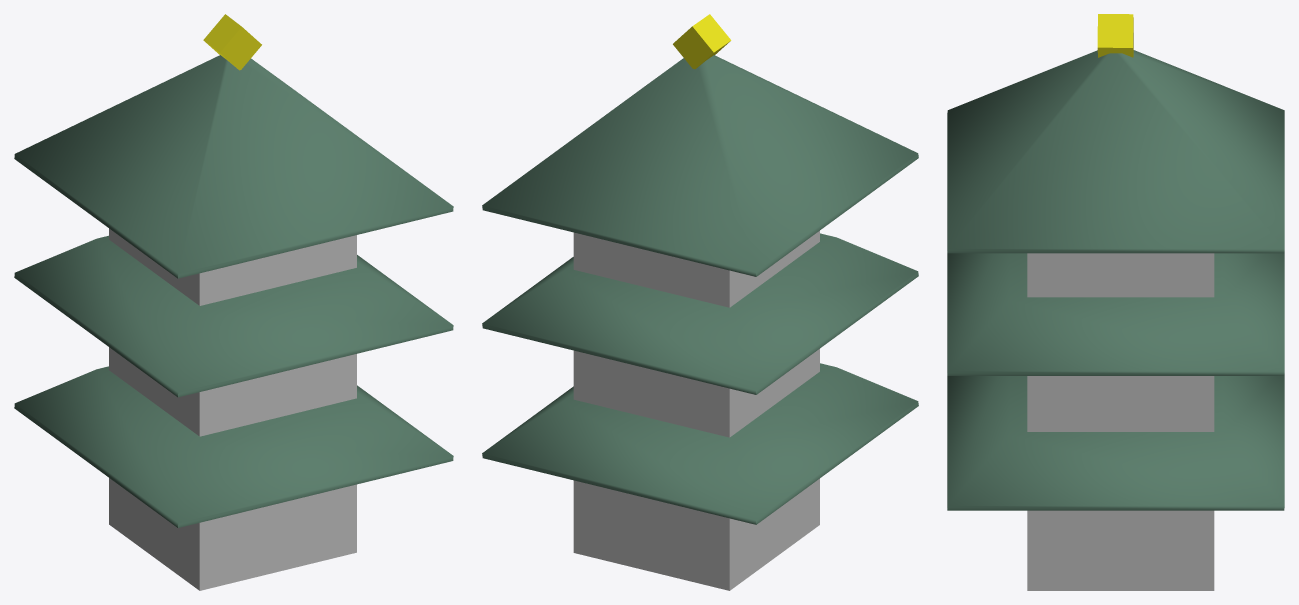
File: placeholder.fbx
3 renders of one model, left to right at view 1: azimuth 30°, elevation 25°; view 2: azimuth 150°, elevation 25°; view 3: azimuth 270°, elevation 25°, orthographic. The views are drawn at different scales.
Parts seen in each view (by area): view 1: Cube.3, Cube.2, Cube.1, Cube, Cube.4; view 2: Cube.3, Cube, Cube.1, Cube.2, Cube.4; view 3: Cube.3, Cube.1, Cube, Cube.2, Cube.4.
Part boxes in pixels (left/top/right/bottom): Cube.3: left=14, top=55, right=453, bottom=278; Cube.2: left=14, top=235, right=453, bottom=397; Cube.1: left=14, top=366, right=453, bottom=527; Cube: left=109, top=228, right=356, bottom=590; Cube.4: left=203, top=14, right=261, bottom=70; Cube.3: left=482, top=55, right=918, bottom=276; Cube: left=573, top=231, right=819, bottom=590; Cube.1: left=482, top=363, right=918, bottom=524; Cube.2: left=482, top=233, right=918, bottom=394; Cube.4: left=673, top=14, right=731, bottom=69; Cube.3: left=947, top=50, right=1284, bottom=253; Cube.1: left=947, top=374, right=1284, bottom=510; Cube: left=1027, top=253, right=1214, bottom=590; Cube.2: left=947, top=251, right=1284, bottom=375; Cube.4: left=1097, top=14, right=1133, bottom=57.
Size of the model in its own units: 351 by 633 by 361.
